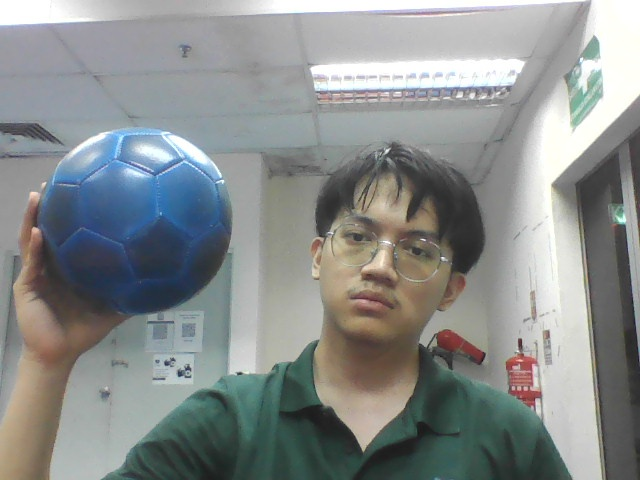Blue: (36, 128, 233, 314)
